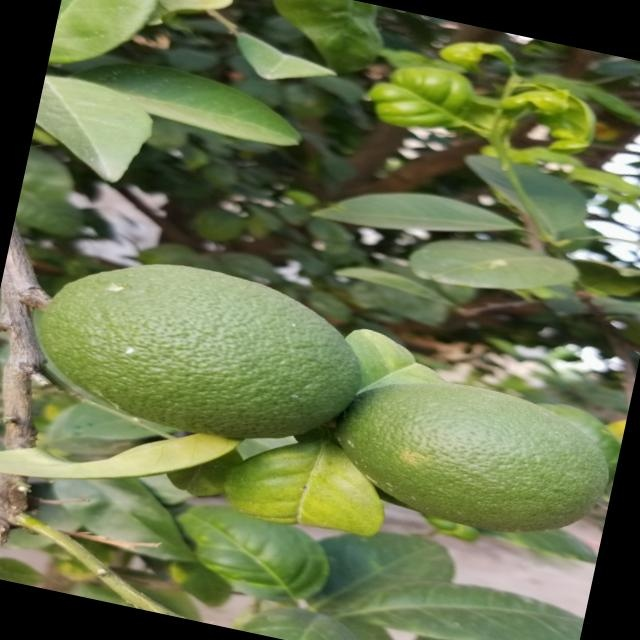agrume: (16, 235, 380, 468), (325, 353, 619, 558)
